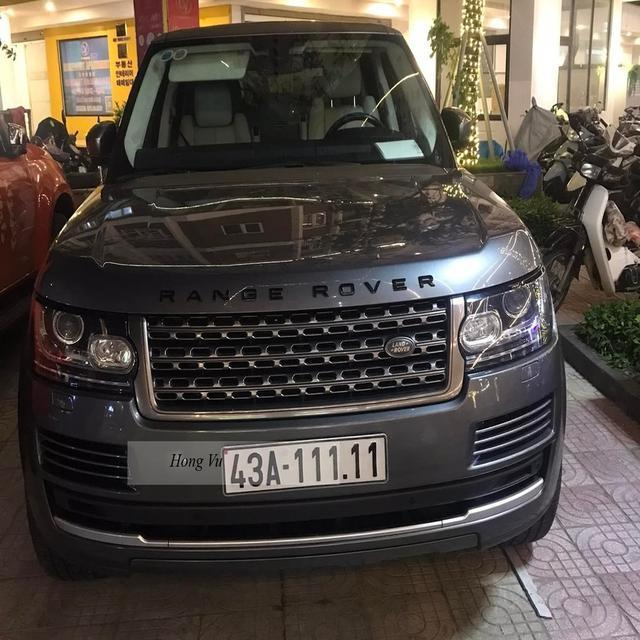car: (9, 16, 573, 592)
plate: (215, 435, 390, 496)
